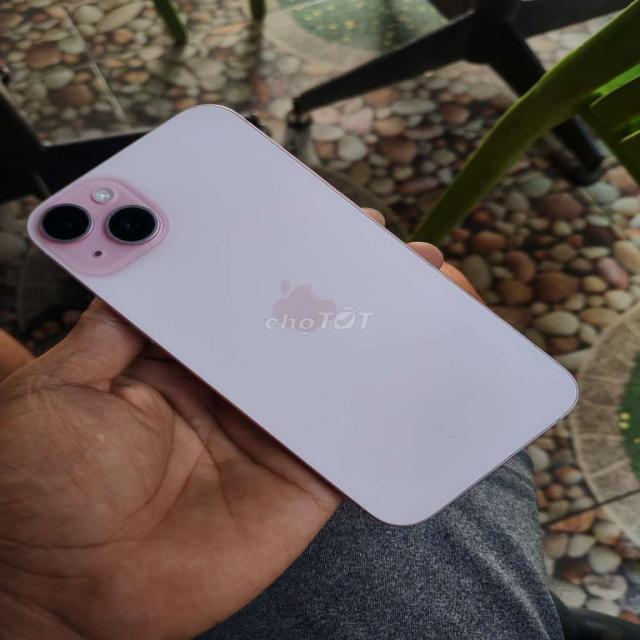gen_15: (13, 88, 595, 534)
